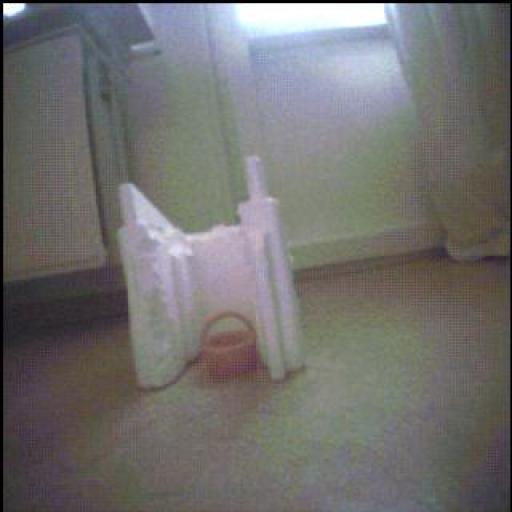Basket: (203, 312, 259, 381)
